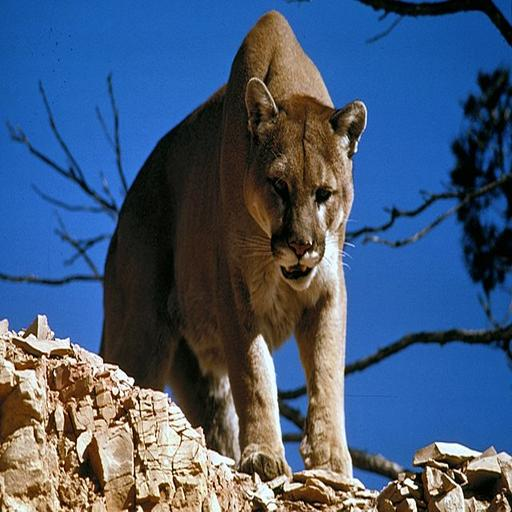Lion: (101, 5, 380, 493)
